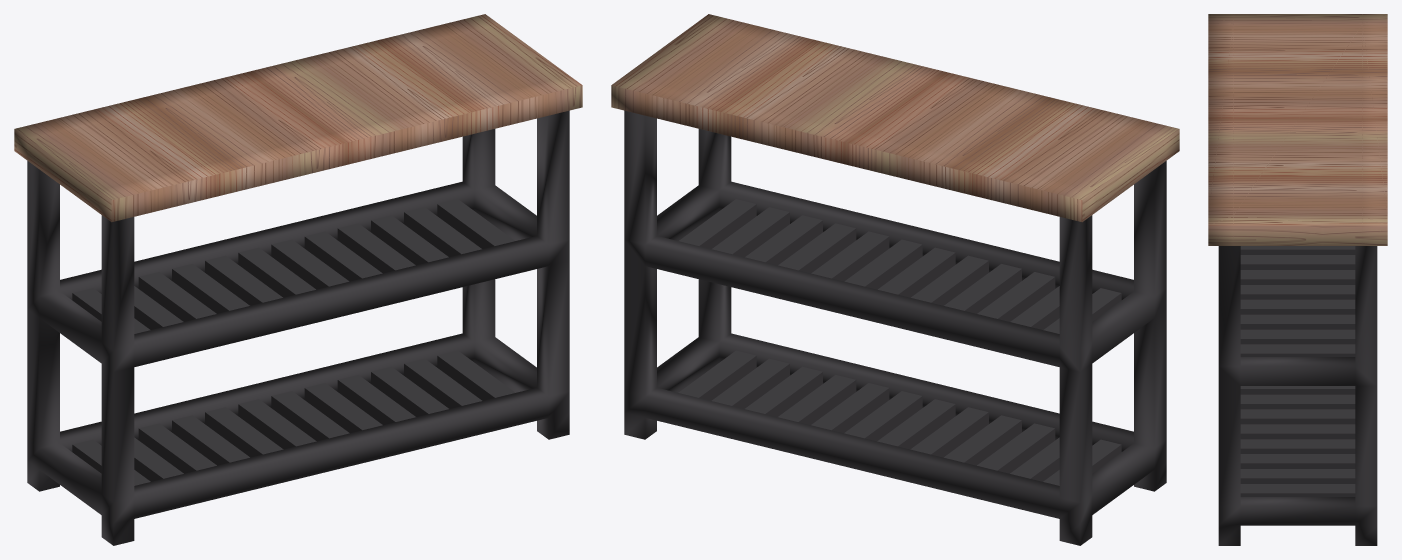
Rendered from Table_Hallway_v01.fbx.
The picture shows the model from 3 angles, left to right: view 1: azimuth 30°, elevation 25°; view 2: azimuth 150°, elevation 25°; view 3: azimuth 270°, elevation 25°; orthographic projection. The views are drawn at different scales.
Visible parts, largest first — view 1: Table_Hallway; view 2: Table_Hallway; view 3: Table_Hallway.
Part boxes in pixels (x1=…): Table_Hallway: x1=14, y1=14, x2=582, y2=545; Table_Hallway: x1=611, y1=14, x2=1179, y2=545; Table_Hallway: x1=1208, y1=14, x2=1387, y2=545.
Bounding box in the file's own units: 114 × 81.08 × 40.69.
